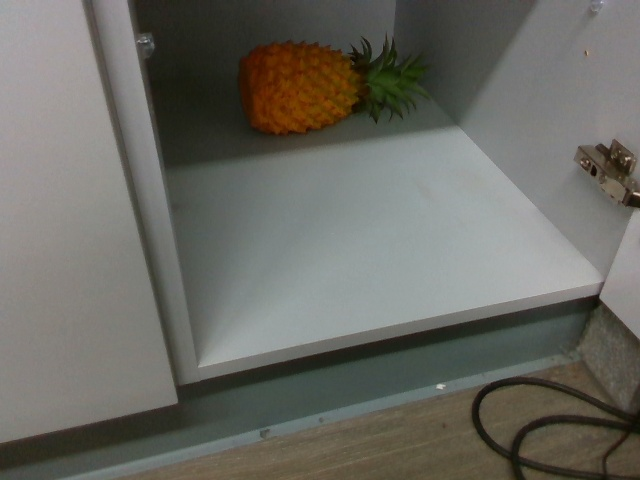pineapple: (240, 41, 439, 133)
